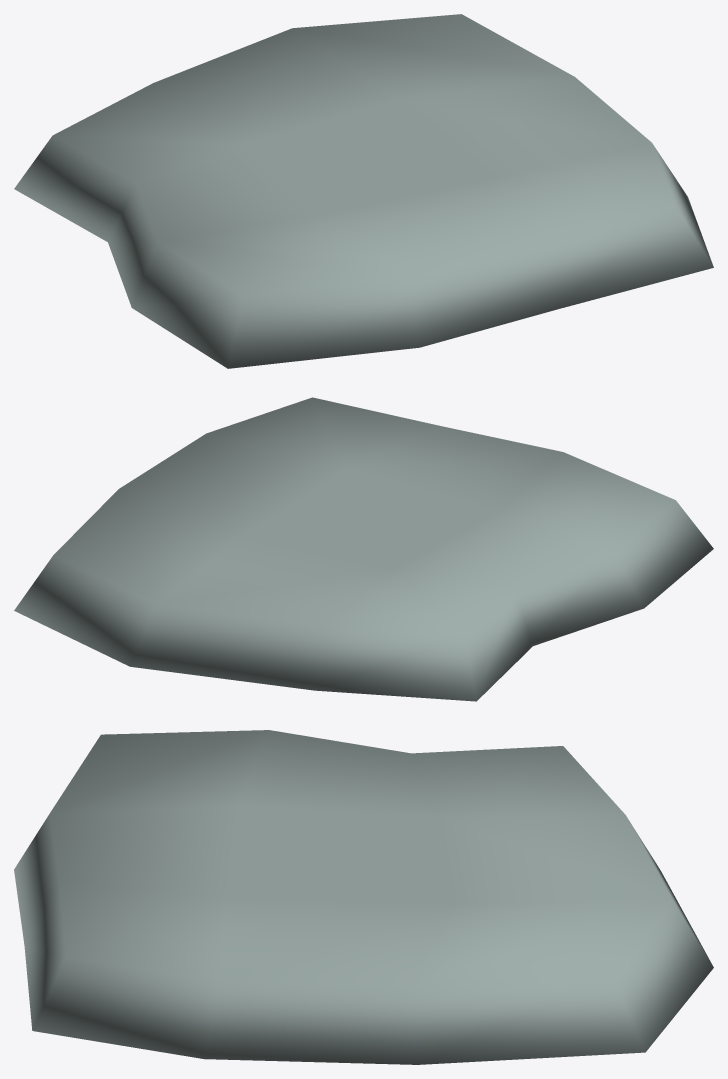
The model's file is desert path1.fbx.
3 views of the same model, one above another, from view 1: azimuth 30°, elevation 25°; view 2: azimuth 150°, elevation 25°; view 3: azimuth 270°, elevation 25° (orthographic). The views are drawn at different scales.
Visible parts, largest first — view 1: desert path1; view 2: desert path1; view 3: desert path1.
Part boxes in pixels (<box>): desert path1: <box>14,14,713,368</box>; desert path1: <box>14,397,713,701</box>; desert path1: <box>14,730,713,1064</box>.
Size of the model in its own units: 83.22 by 8.32 by 85.24.
